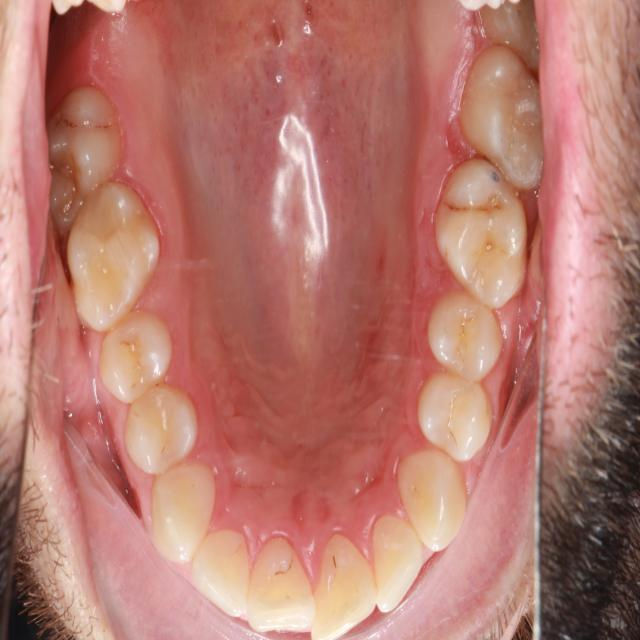tooth: (55, 173, 174, 350), (429, 152, 536, 315), (37, 91, 136, 251), (457, 35, 549, 187), (230, 521, 327, 640), (110, 378, 209, 488), (296, 524, 388, 640), (139, 459, 226, 574), (407, 361, 501, 466), (390, 437, 471, 554), (423, 290, 517, 388), (362, 505, 427, 626), (88, 315, 175, 402), (186, 525, 254, 626), (471, 2, 550, 80)
